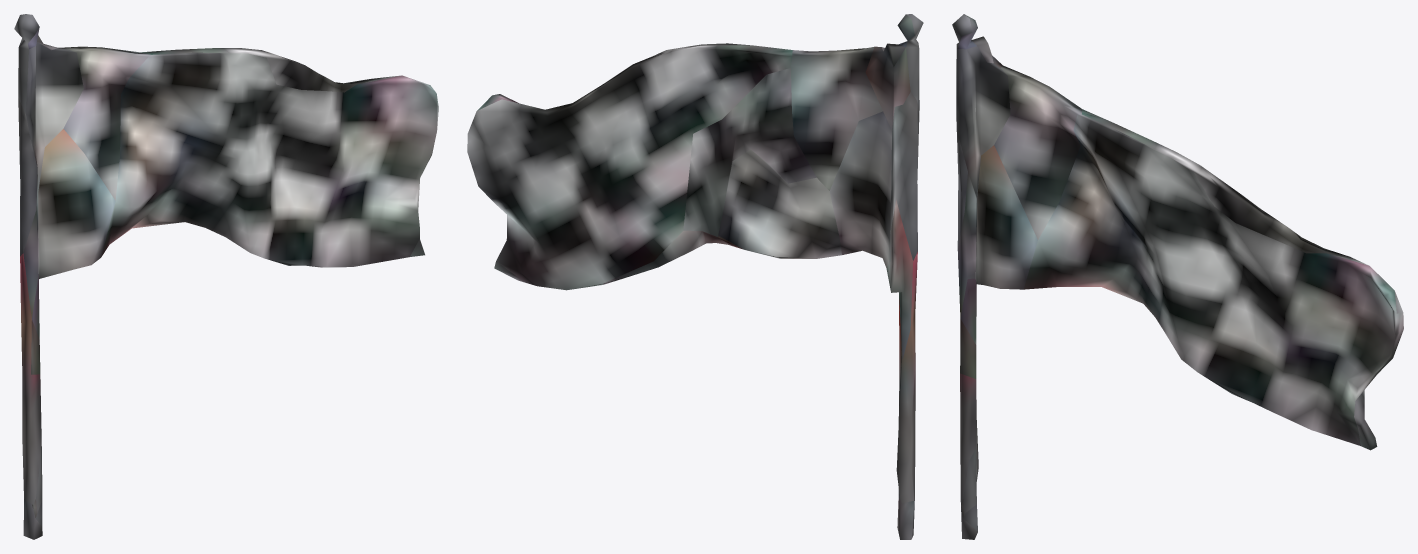
The picture shows the model from 3 angles, left to right: view 1: azimuth 30°, elevation 25°; view 2: azimuth 150°, elevation 25°; view 3: azimuth 330°, elevation 25°; orthographic projection.
Size of the model in its own units: 0.4697 by 0.5422 by 0.0746.
Materials: 1 (1 with a texture image).
